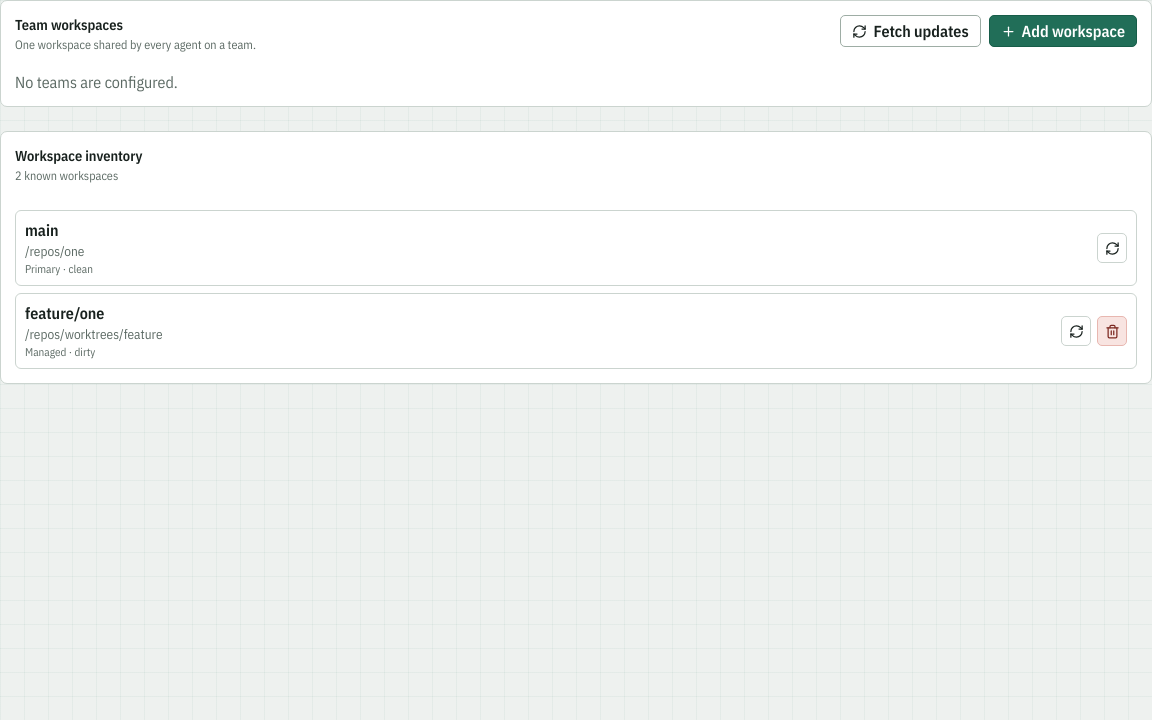
Test: CheckoutWorkspace › keeps create errors inside the open dialog and preserves the draft
The image size is (1152, 720).
Click the button "Add workspace".
click(1063, 31)  # box [989,15,1137,47]
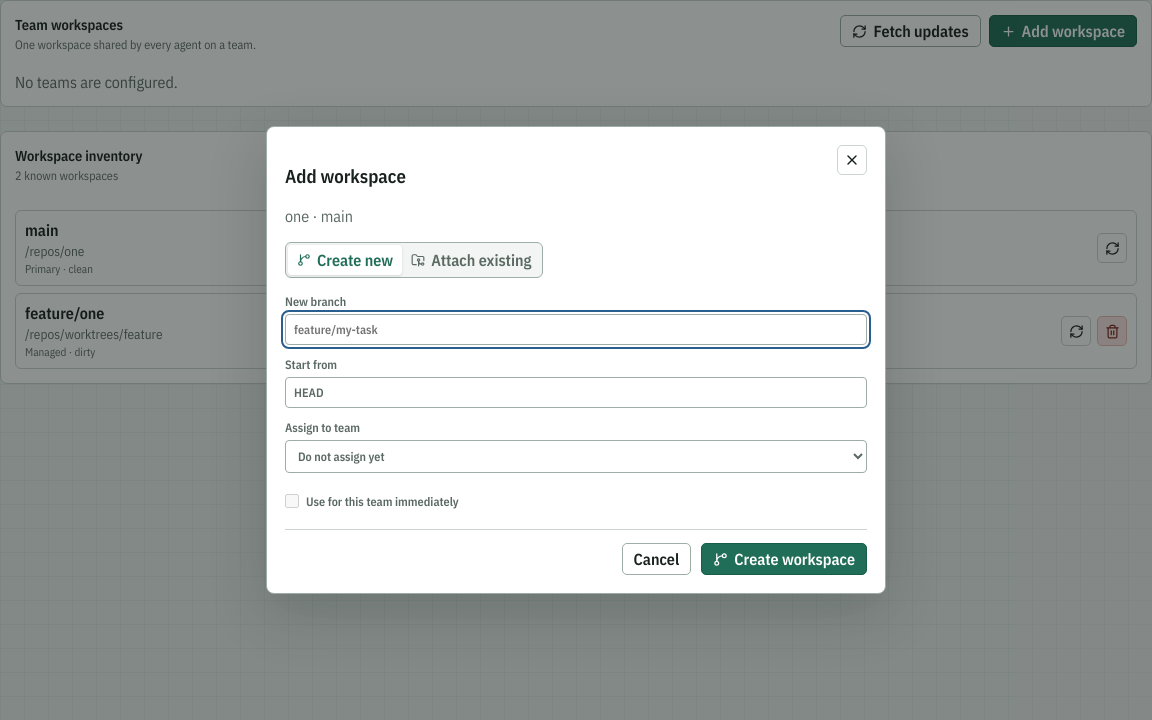
Type "invalid branch name" into the field labelled "New branch".
click(576, 330); type("invalid branch name")  # box [285,314,867,345]
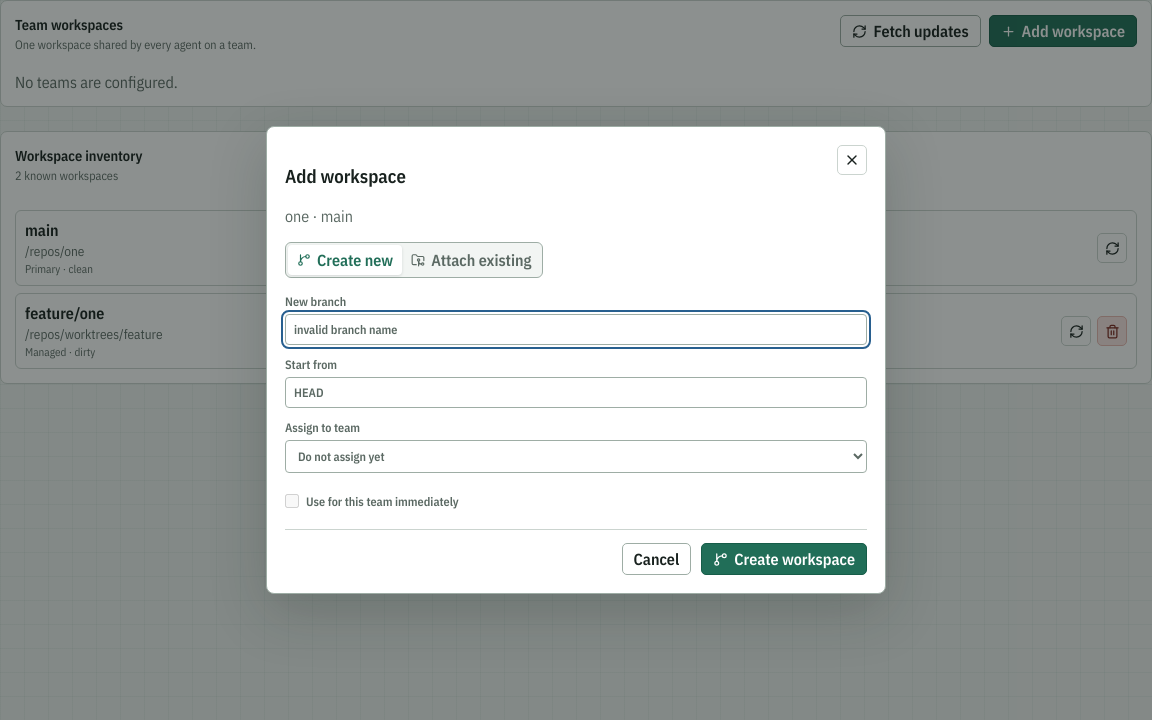
Click the button "Create workspace".
click(784, 559)  # box [701,543,867,575]
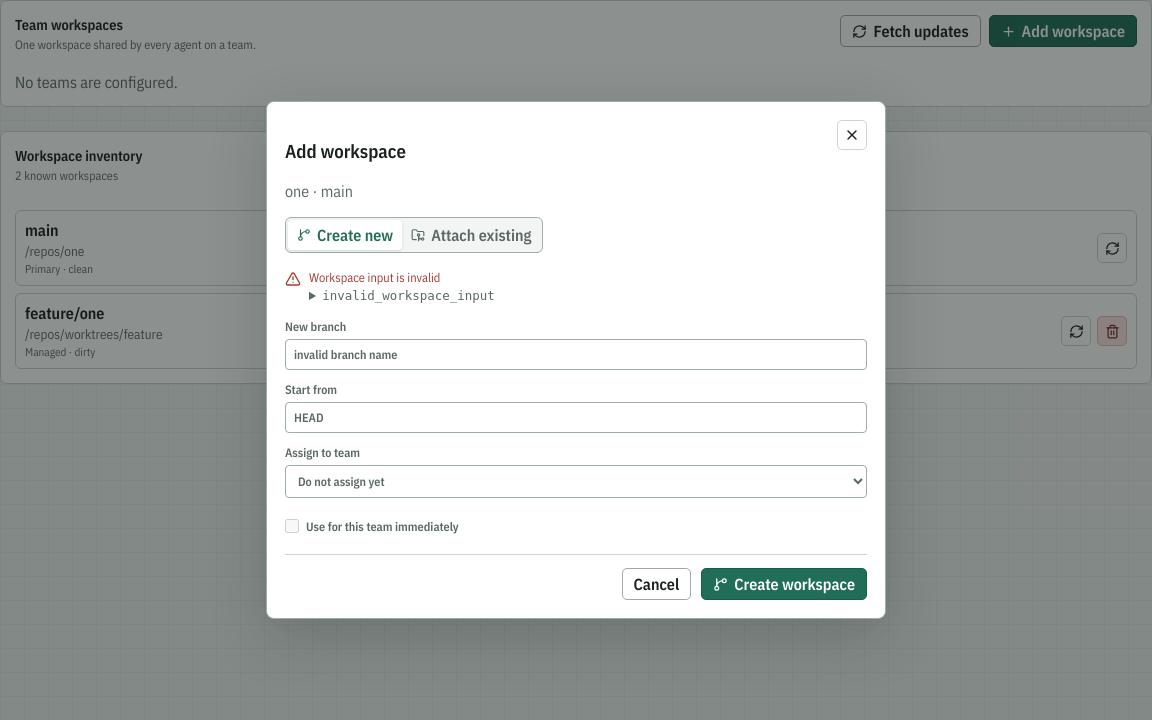
Result: the message shows "Workspace input is invalid" at [309,269,440,285]
Result: the message shows "invalid_workspace_input" at [322,288,495,303]
Result: the number of messages is 1 at [285,269,495,303]
Click the button "Attach existing".
click(471, 235)  # box [402,220,540,250]
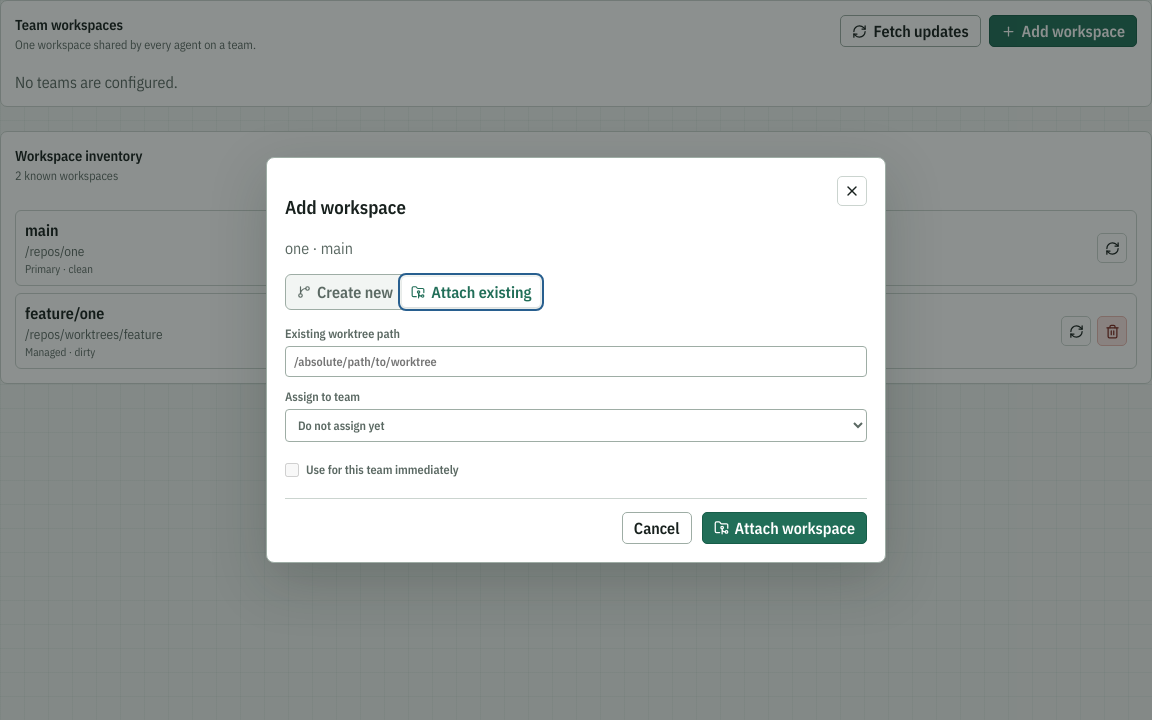
Result: the message "Workspace input is invalid invalid_workspace_input" is gone
